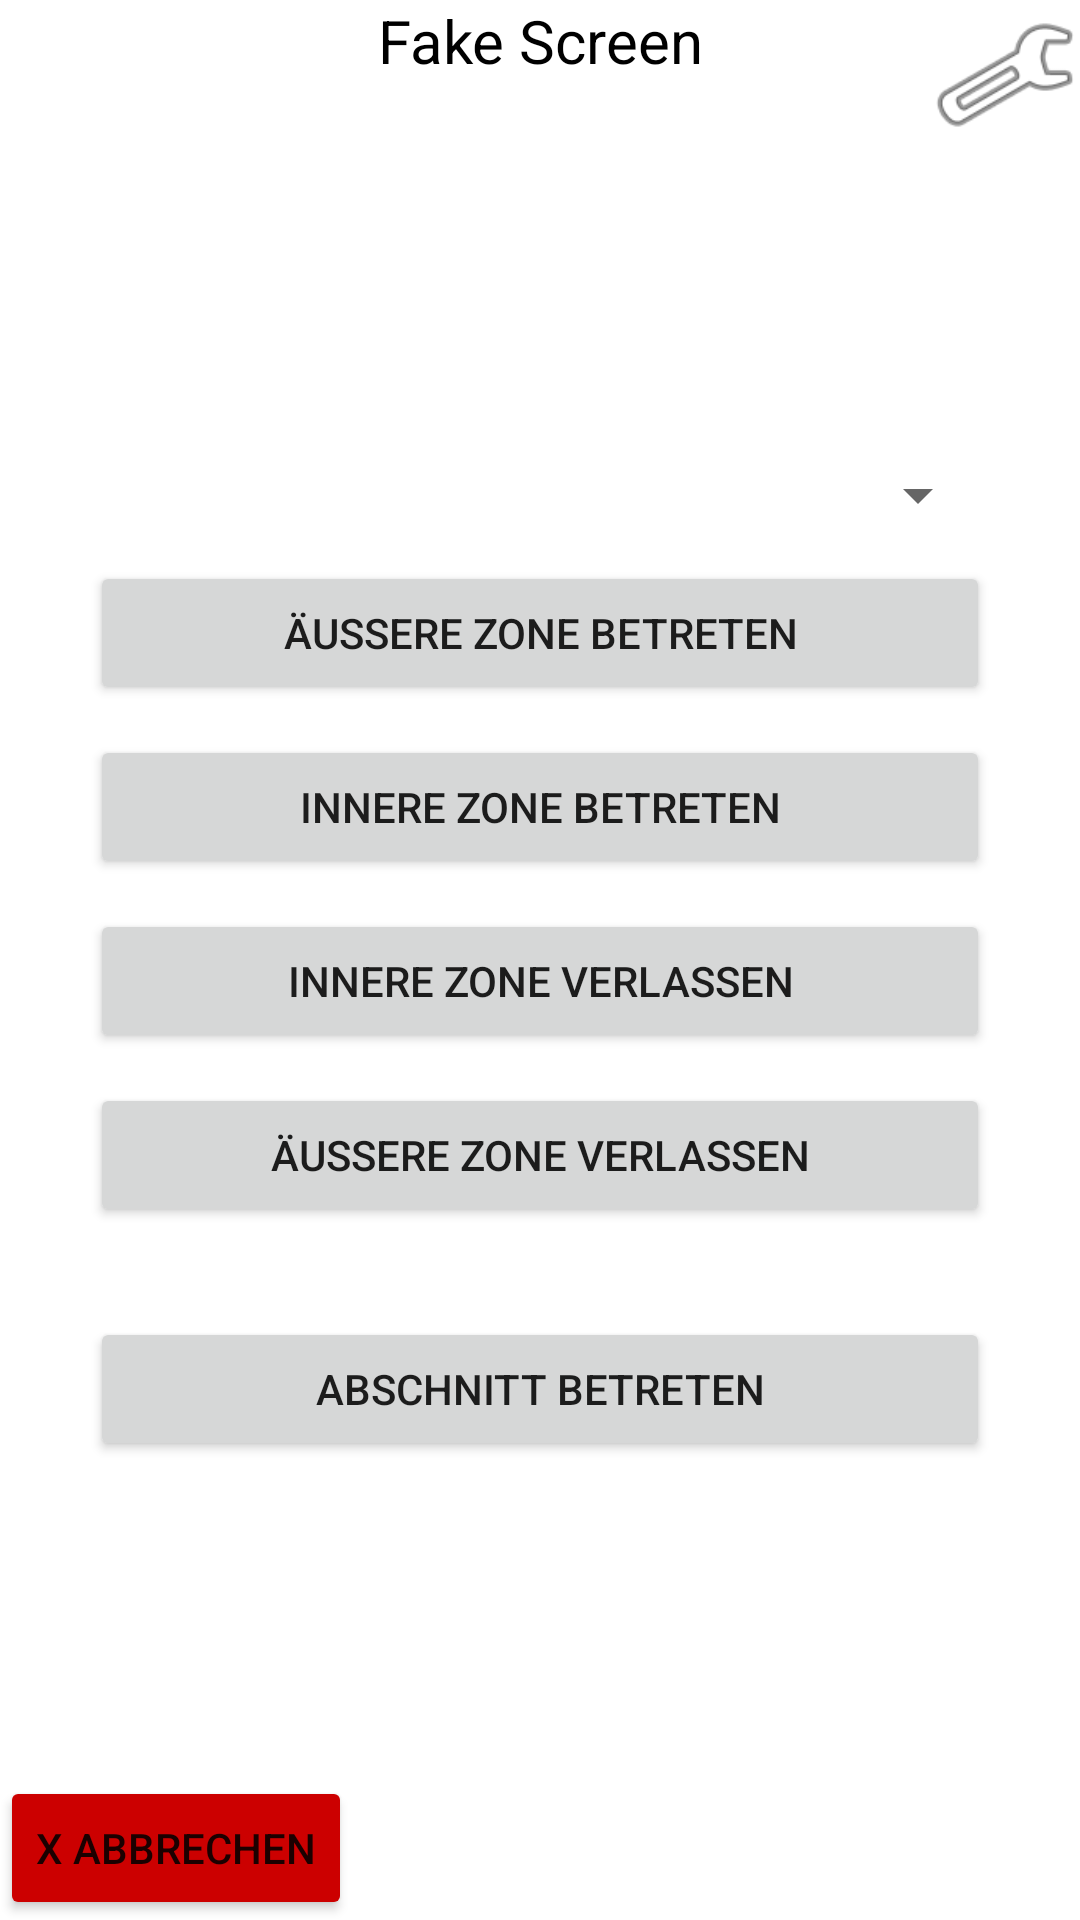

Where to tap for icons on this 1080w x 1920h app screen, as (x,y):
Settings: (1005,75)
